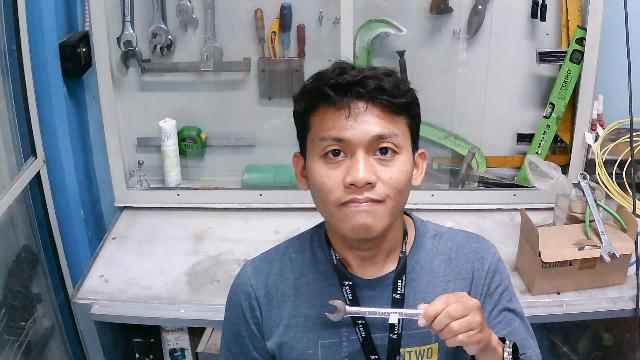kunci_pass_13: (317, 288, 485, 347)
